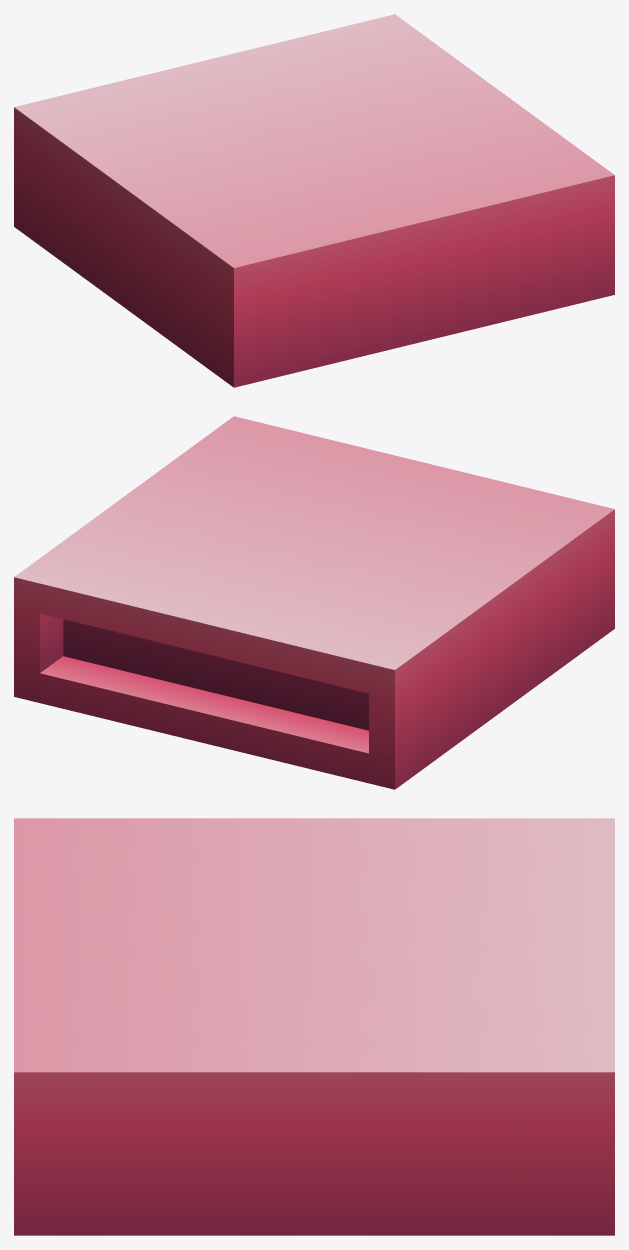
Rendered from PlatformStatic.fbx.
3 renders of one model, top to bottom at view 1: azimuth 30°, elevation 25°; view 2: azimuth 150°, elevation 25°; view 3: azimuth 270°, elevation 25°, orthographic. The views are drawn at different scales.
Parts seen in each view (by area): view 1: PlatformStatic; view 2: PlatformStatic; view 3: PlatformStatic.
Part boxes in pixels (bbox=[...]): PlatformStatic: bbox=[14, 14, 614, 387]; PlatformStatic: bbox=[14, 416, 614, 789]; PlatformStatic: bbox=[14, 818, 614, 1235].
Size of the model in its own units: 100 by 30 by 100.
1 material, 1 textured.
